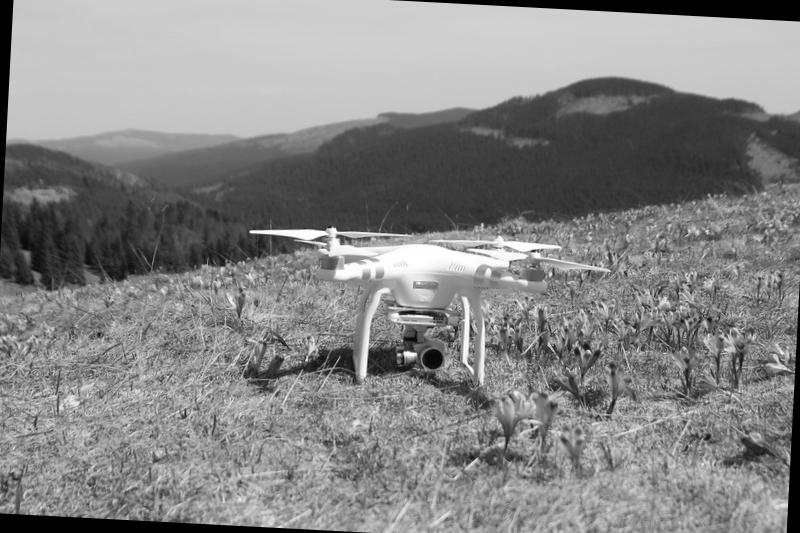drone: (234, 216, 611, 390)
